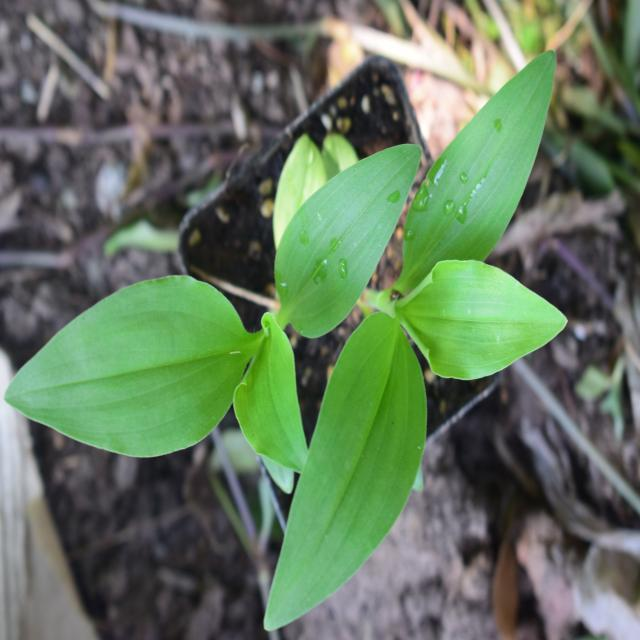Common Dayflower: (268, 32, 592, 606), (16, 220, 266, 478)
